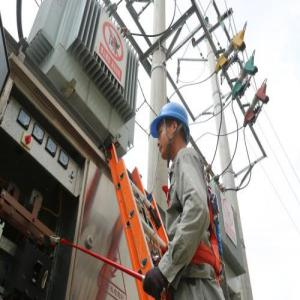blue: (152, 98, 191, 165)
